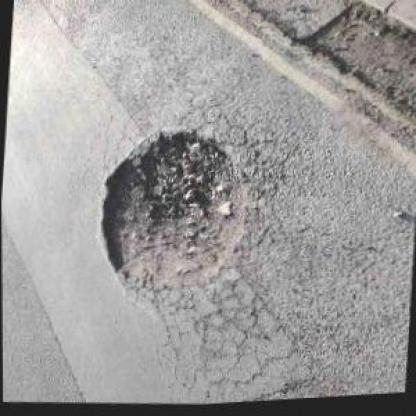pothole: (90, 118, 248, 320), (287, 0, 416, 140)
